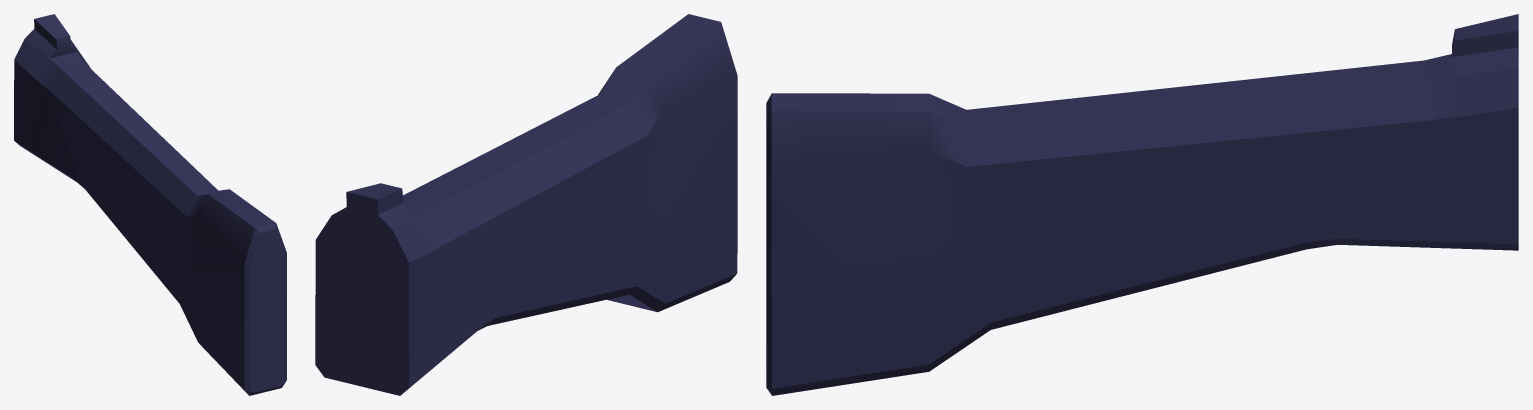
Rendered from Stock_5.fbx.
The picture shows the model from 3 angles, left to right: view 1: azimuth 30°, elevation 25°; view 2: azimuth 150°, elevation 25°; view 3: azimuth 270°, elevation 25°; orthographic projection. The views are drawn at different scales.
Parts seen in each view (by area): view 1: Stock_5; view 2: Stock_5; view 3: Stock_5.
Part boxes in pixels (<box>): Stock_5: <box>14,14,286,395</box>; Stock_5: <box>315,14,737,395</box>; Stock_5: <box>766,14,1518,395</box>.
Bounding box in the file's own units: 0.2172 × 0.7309 × 1.38.
